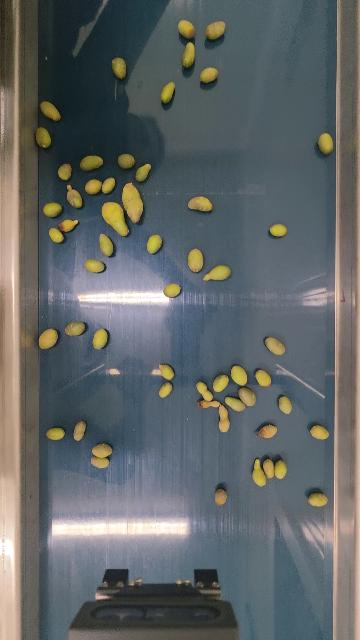Baby Potato: (101, 200, 131, 237), (120, 180, 144, 223), (203, 263, 232, 283), (39, 99, 62, 122), (187, 195, 214, 214), (204, 19, 227, 41), (180, 40, 197, 69), (187, 247, 205, 274), (38, 327, 59, 350), (264, 335, 286, 356), (176, 18, 196, 40), (110, 56, 128, 80), (79, 154, 104, 171), (159, 79, 176, 104), (237, 386, 257, 407), (98, 232, 114, 258), (230, 364, 248, 387), (224, 395, 247, 413), (92, 327, 109, 351), (217, 404, 231, 433), (252, 458, 266, 487), (66, 187, 84, 209), (35, 126, 52, 149), (317, 132, 334, 155), (64, 320, 86, 337), (145, 232, 162, 254), (212, 373, 230, 393), (199, 66, 219, 84), (196, 380, 213, 401), (91, 442, 113, 458), (255, 368, 272, 388), (135, 163, 152, 183), (43, 201, 63, 218), (72, 420, 88, 441), (257, 423, 278, 439), (310, 424, 329, 441), (117, 153, 136, 170), (84, 178, 103, 195), (85, 258, 105, 274), (308, 491, 328, 507), (269, 222, 288, 238), (46, 426, 66, 441), (278, 395, 293, 415), (262, 458, 275, 481), (159, 363, 175, 381), (274, 459, 287, 480), (90, 456, 111, 469), (48, 227, 64, 244), (57, 163, 72, 181), (158, 381, 173, 398), (164, 282, 181, 297), (214, 487, 227, 506), (60, 219, 79, 232), (102, 177, 116, 194), (197, 399, 219, 408), (65, 184, 78, 198)
